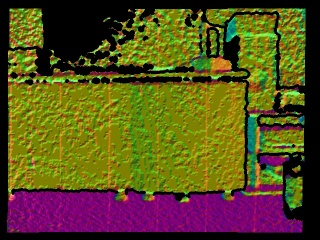station: (193, 21, 232, 71)
